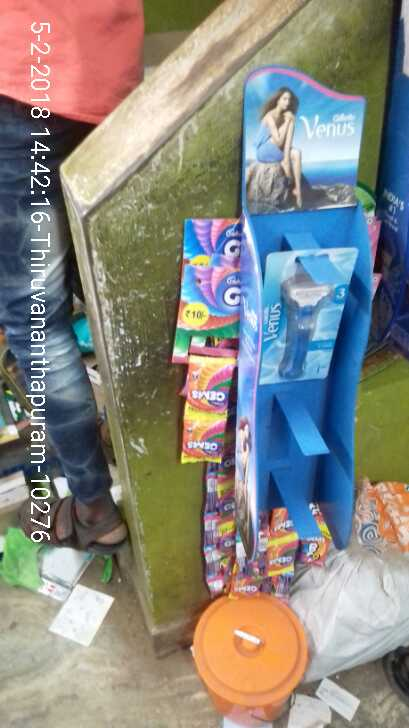venus: (261, 251, 346, 390)
